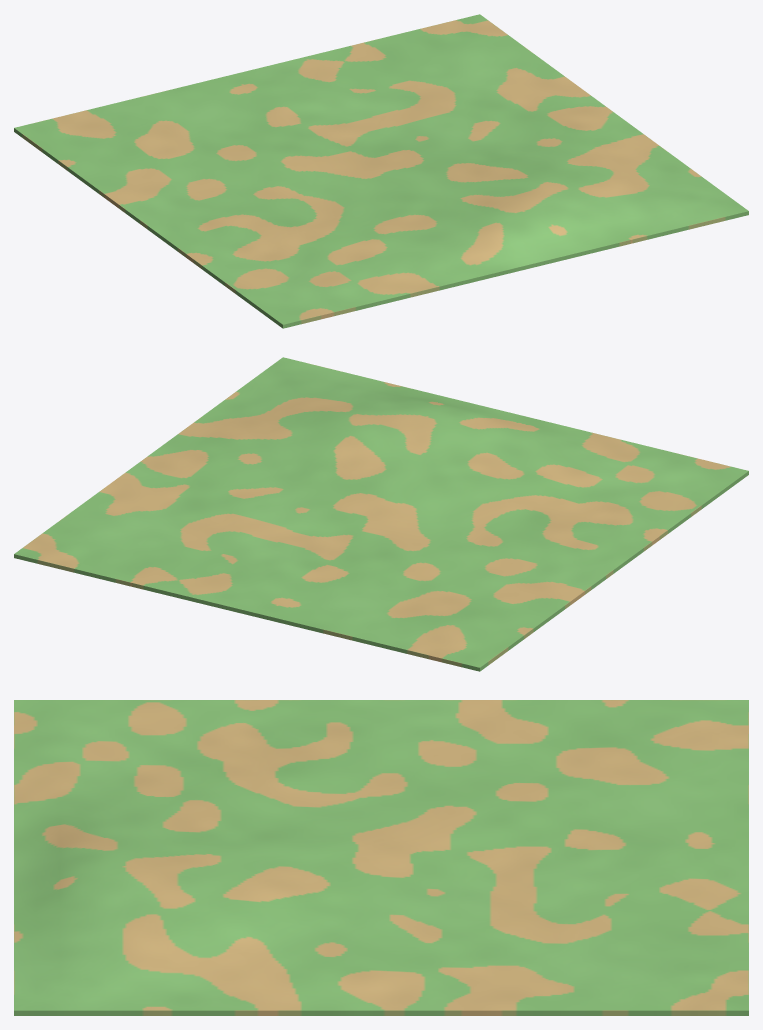
Rendered from Grass_Flat_07.obj.
The picture shows the model from 3 angles, top to bottom: view 1: azimuth 30°, elevation 25°; view 2: azimuth 150°, elevation 25°; view 3: azimuth 270°, elevation 25°; orthographic projection. The views are drawn at different scales.
Bounding box in the file's own units: 10 × 0.4009 × 10.
1 material, 1 textured.
